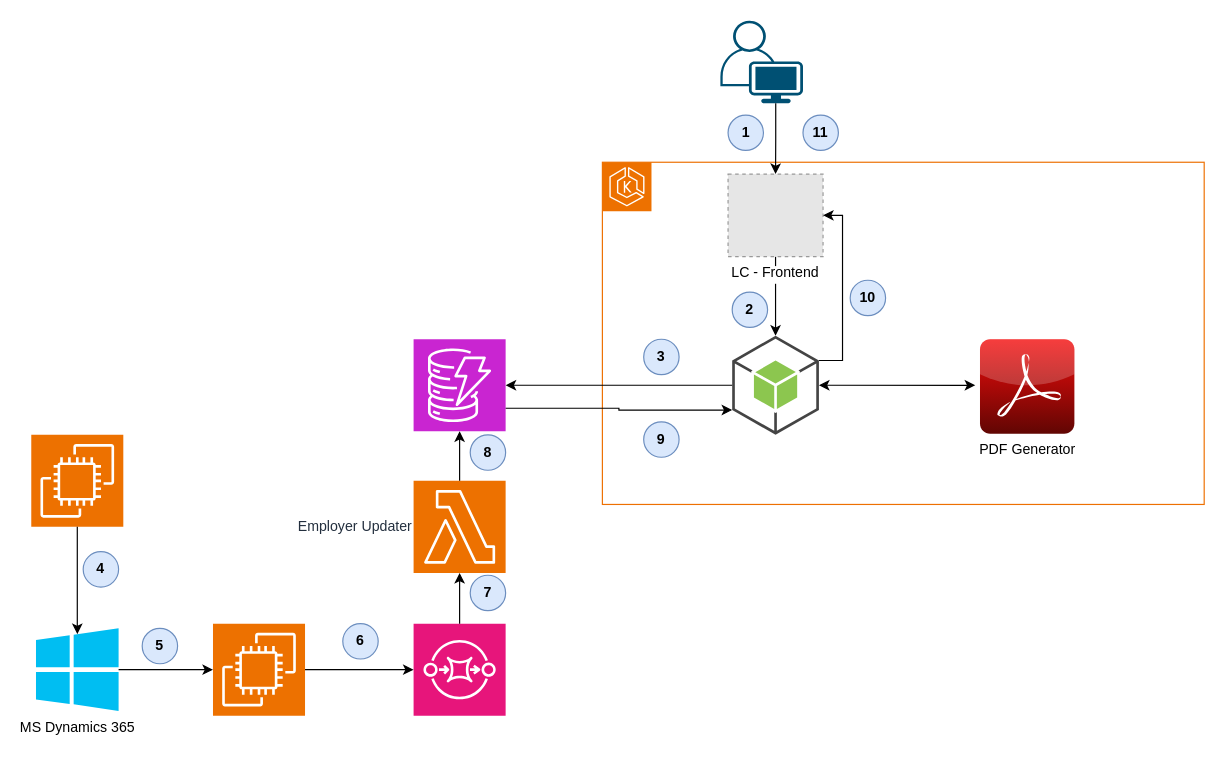
The diagram is 1225 pixels wide and 760 high, and some of its shapes have lost their labels. Grey dashed boxes stand in for pictures. Here are the shapes that lost their labels. From the top down, the centre of each, then its label:
the point at 761,61: User
the point at 459,384: Employer DB
the point at 775,385: LC - Backend
the point at 76,480: Digital Onboarding
the point at 258,669: Pimcore
the point at 459,669: SQS
